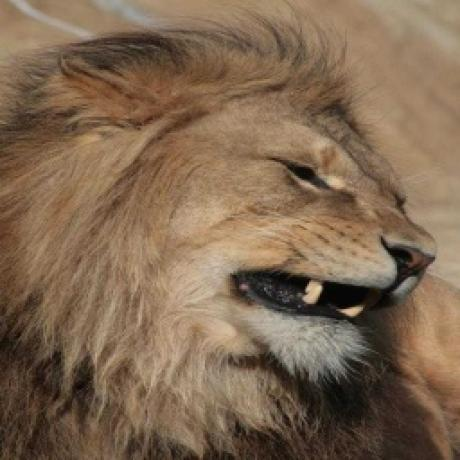Lion: (0, 8, 441, 460)
